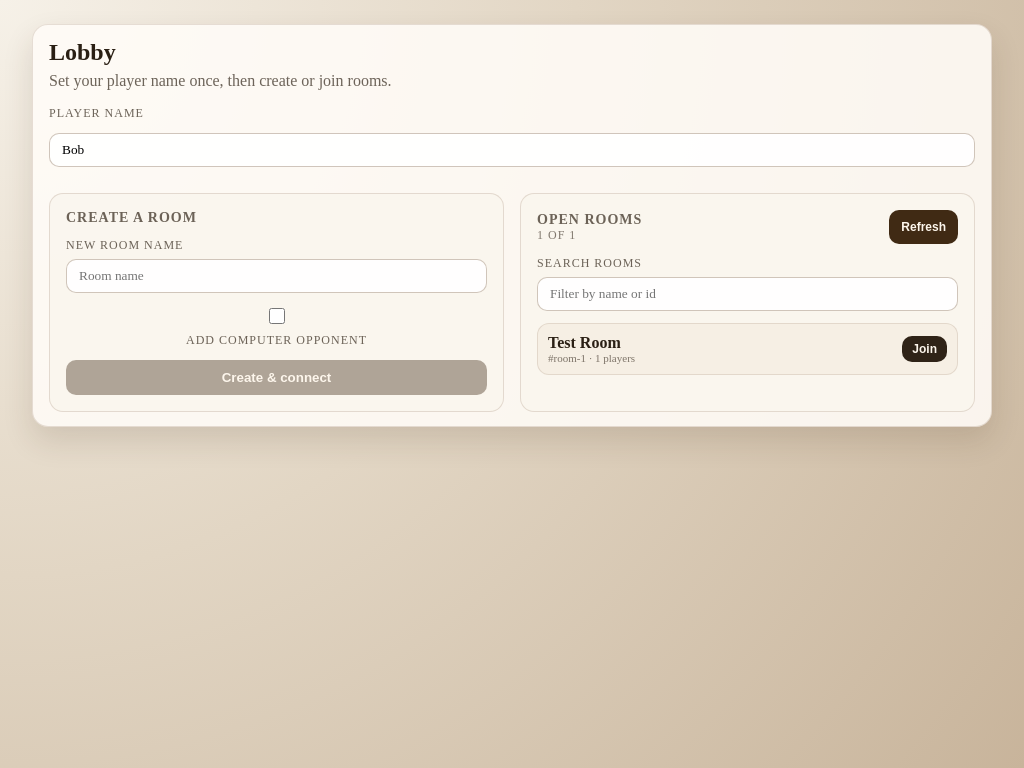
Test: Lobby › shows error when room creation fails
Type "Fail Room" into the field with placeholder "room name" at x=276, y=276, box [66,259,487,293]
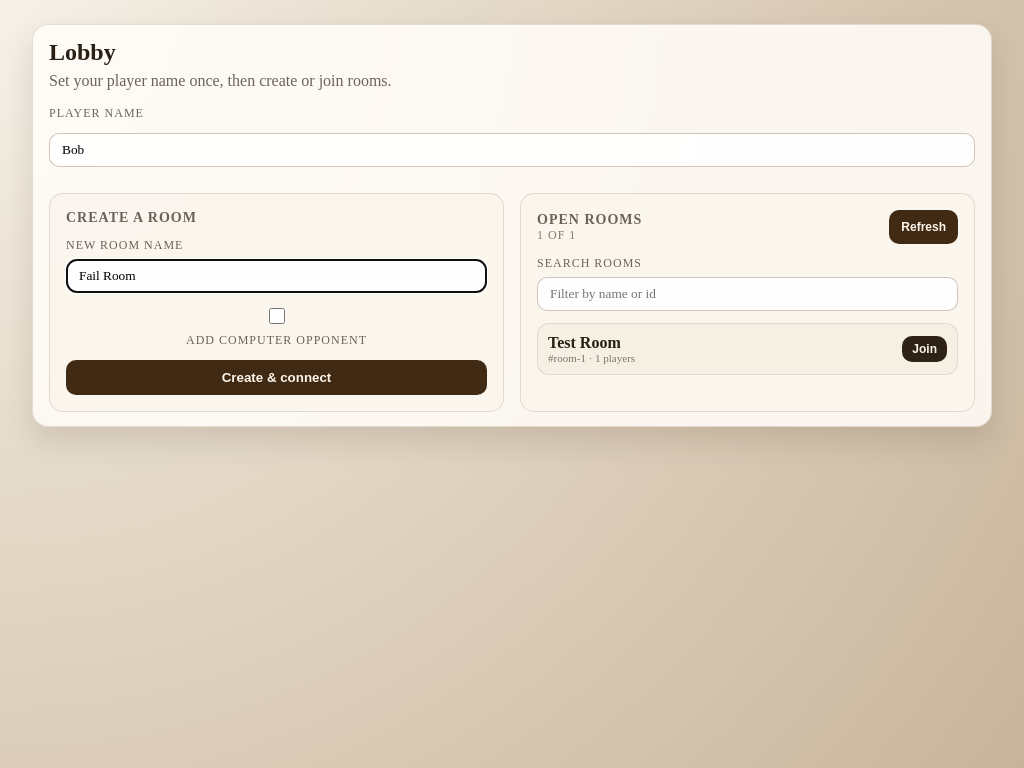
Click the button "Create & connect" at x=276, y=378, box [66,360,487,395]
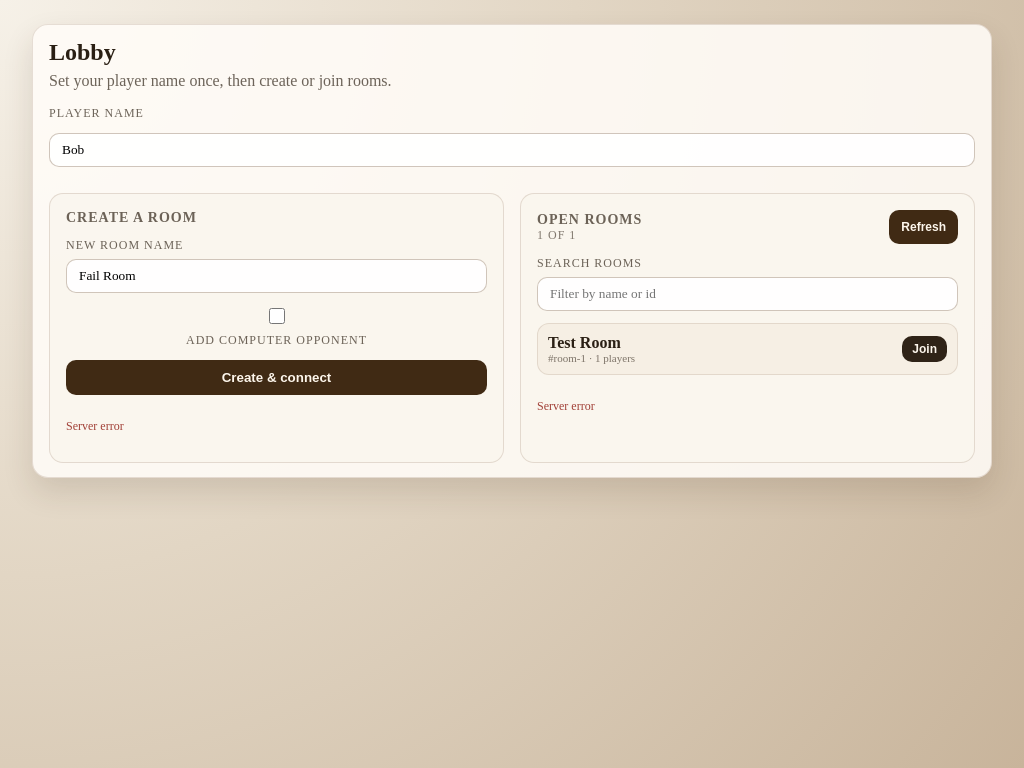
Expected: the text "Server error" below "Add computer opponent" is shown, [66,419,124,433]
